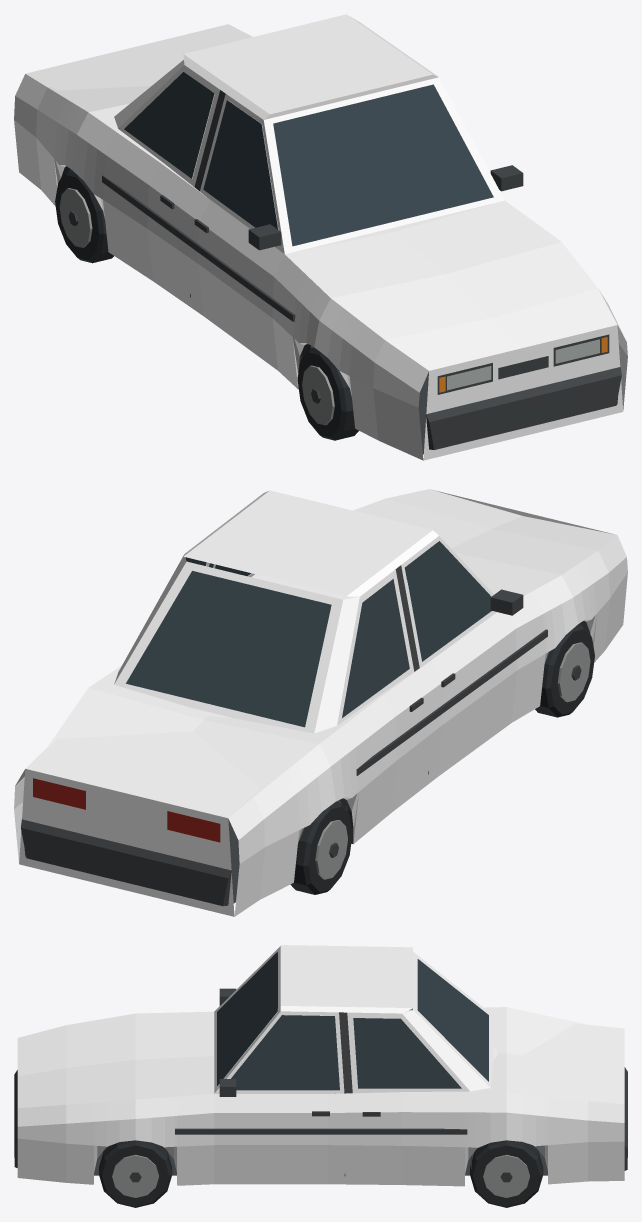
File: tomoe_kogetsu_s_ii.glb
3 renders of one model, top to bottom at view 1: azimuth 30°, elevation 25°; view 2: azimuth 150°, elevation 25°; view 3: azimuth 270°, elevation 25°, orthographic. The views are drawn at different scales.
Visible parts, largest first — view 1: tomoe_kogetsu_s_ii; view 2: tomoe_kogetsu_s_ii; view 3: tomoe_kogetsu_s_ii.
Part boxes in pixels (left/top/right/bottom): tomoe_kogetsu_s_ii: left=14, top=14, right=627, bottom=460; tomoe_kogetsu_s_ii: left=14, top=489, right=627, bottom=916; tomoe_kogetsu_s_ii: left=14, top=945, right=627, bottom=1207.
Size of the model in its own units: 1.69 by 1.49 by 4.45.
Materials: 8 (1 with a texture image).
